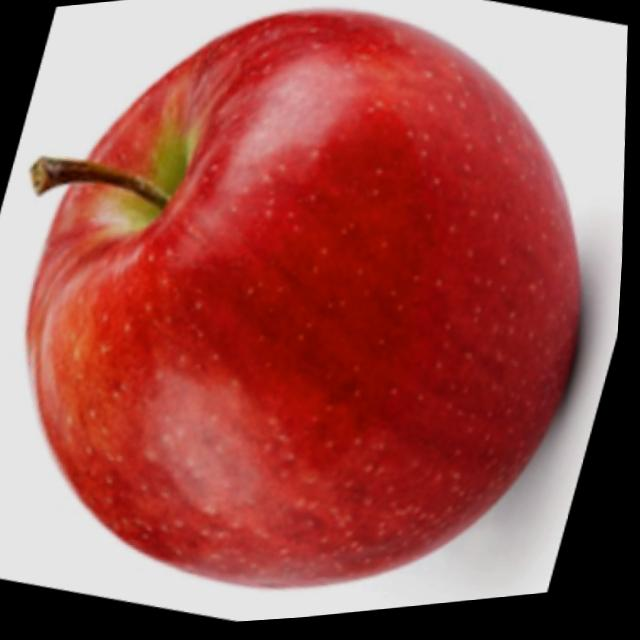organik: (0, 6, 615, 620)
